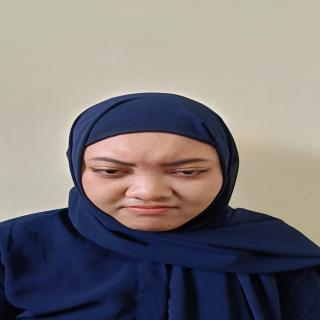Marah: (74, 129, 224, 238)
